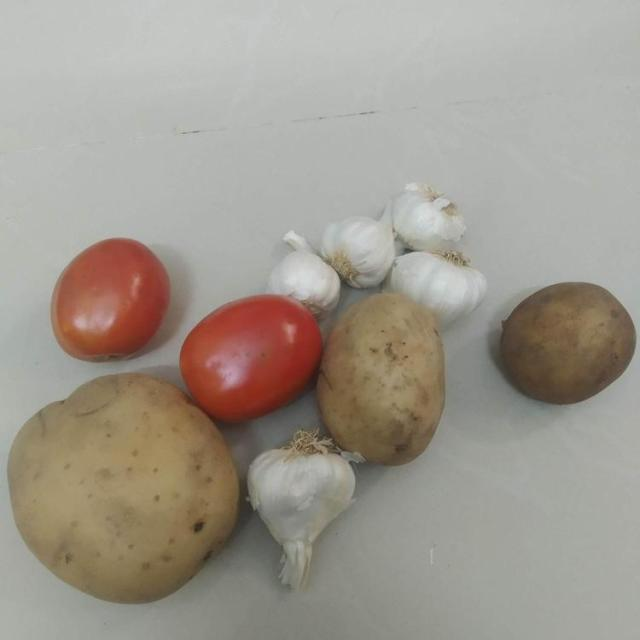Organik: (5, 378, 255, 613), (322, 293, 447, 473), (176, 289, 325, 431), (244, 430, 360, 606), (497, 281, 640, 413), (43, 230, 169, 369), (272, 228, 346, 312), (392, 172, 468, 251), (388, 250, 489, 308), (325, 216, 399, 289)
